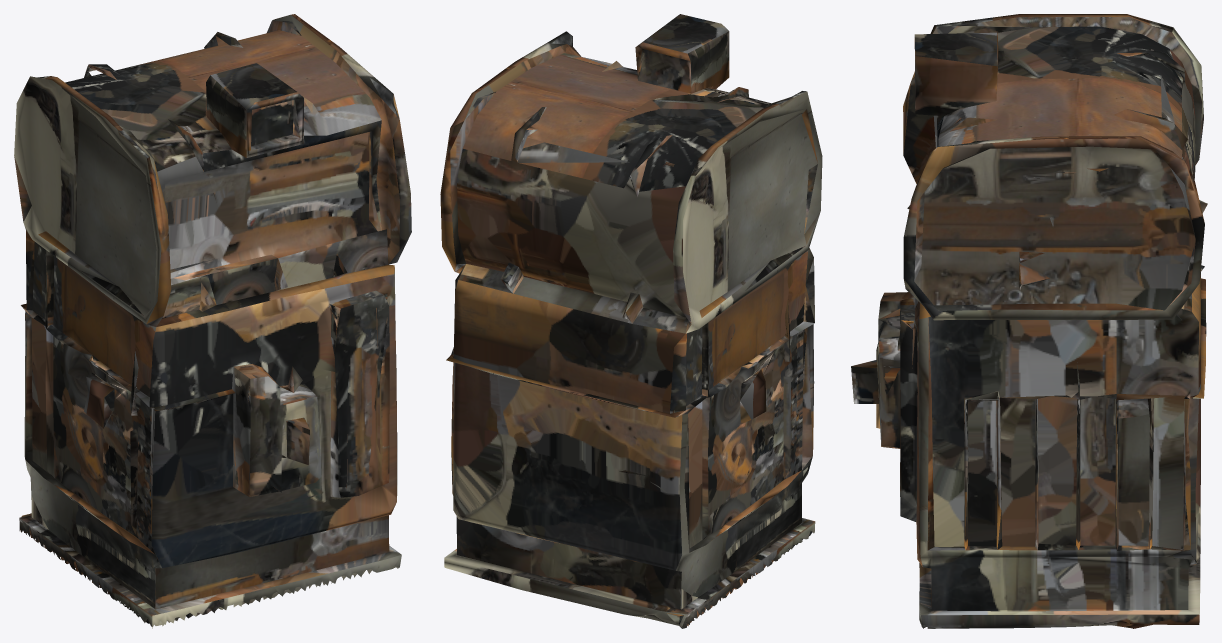
Rendered from coca.fbx.
The picture shows the model from 3 angles, left to right: view 1: azimuth 30°, elevation 25°; view 2: azimuth 150°, elevation 25°; view 3: azimuth 270°, elevation 25°; orthographic projection. The views are drawn at different scales.
Parts seen in each view (by area): view 1: Mesh1; view 2: Mesh1; view 3: Mesh1.
Part boxes in pixels (<box>): Mesh1: <box>14,14,411,628</box>; Mesh1: <box>440,14,822,628</box>; Mesh1: <box>851,14,1207,628</box>.
Bounding box in the file's own units: 112 × 200 × 125.
